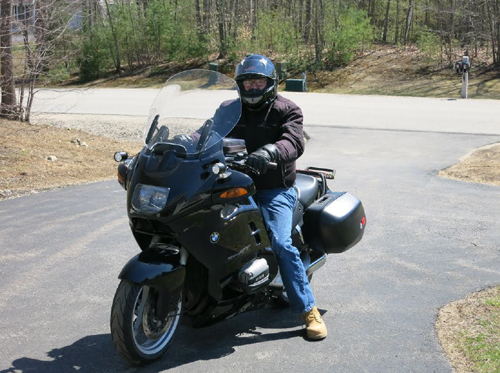helmet: (135, 47, 315, 246)
